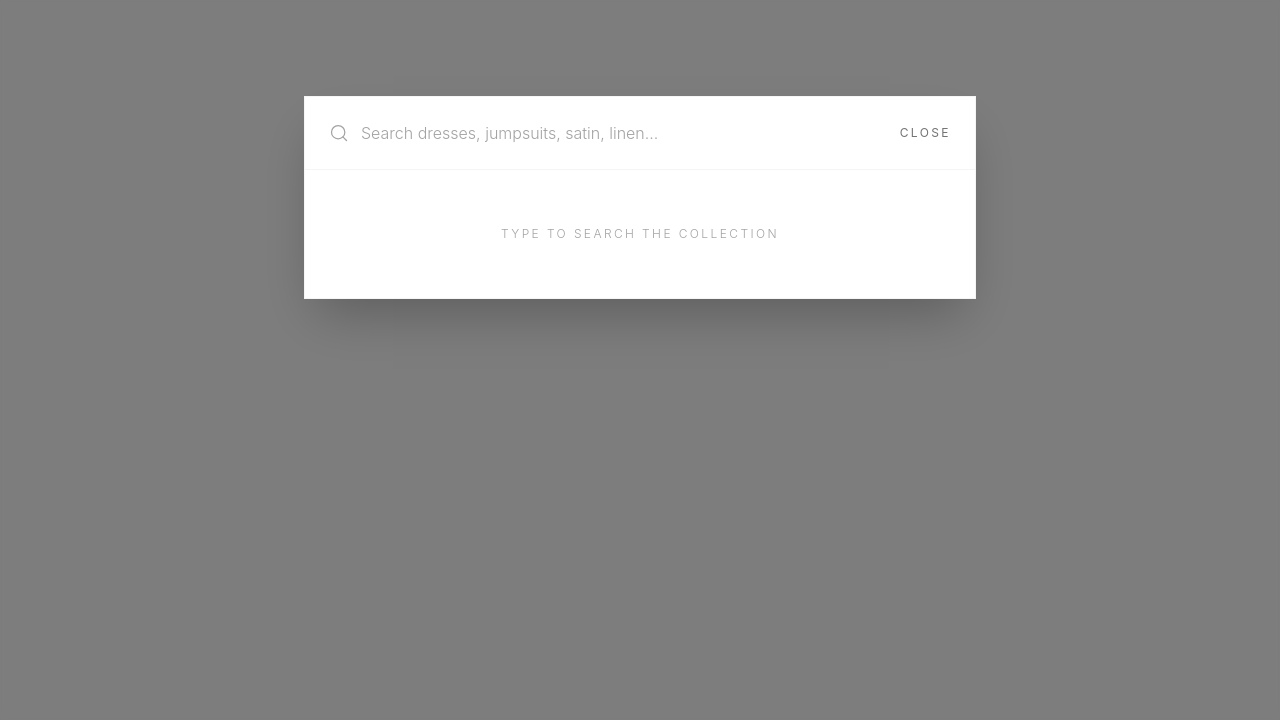
Test: Tier 1: Feature Coverage - SearchModal Component › shows no-results message when query does not match
Type "nonexistent garment xyz" into the field with test id "search-input" at (624, 133), box [361, 121, 888, 145]
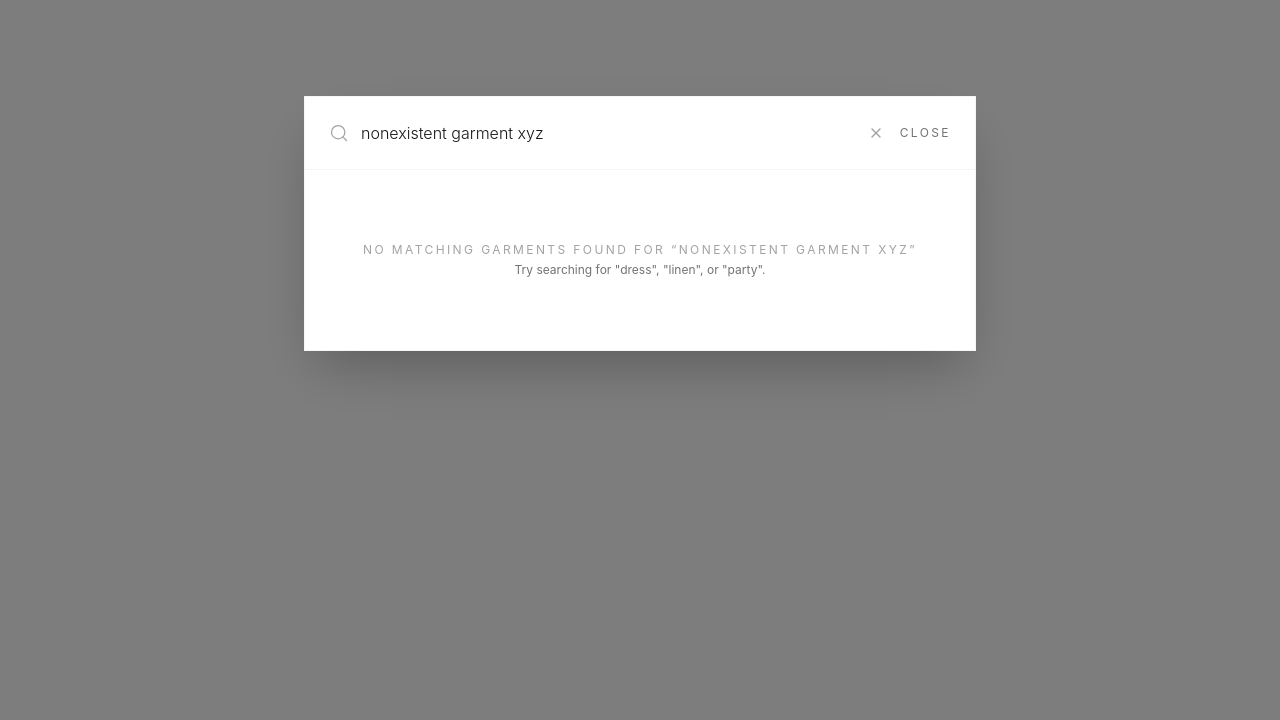
expect the element with test id "search-no-results" is shown: met, box [363, 242, 917, 277]
